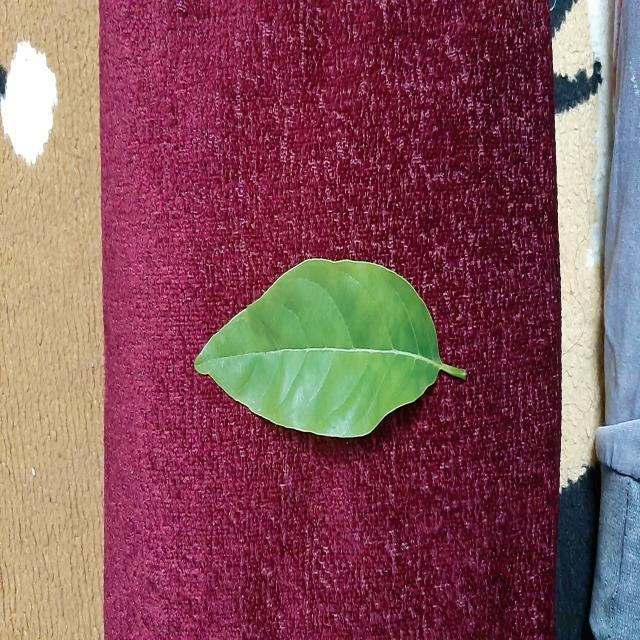leaf: (192, 256, 467, 439)
